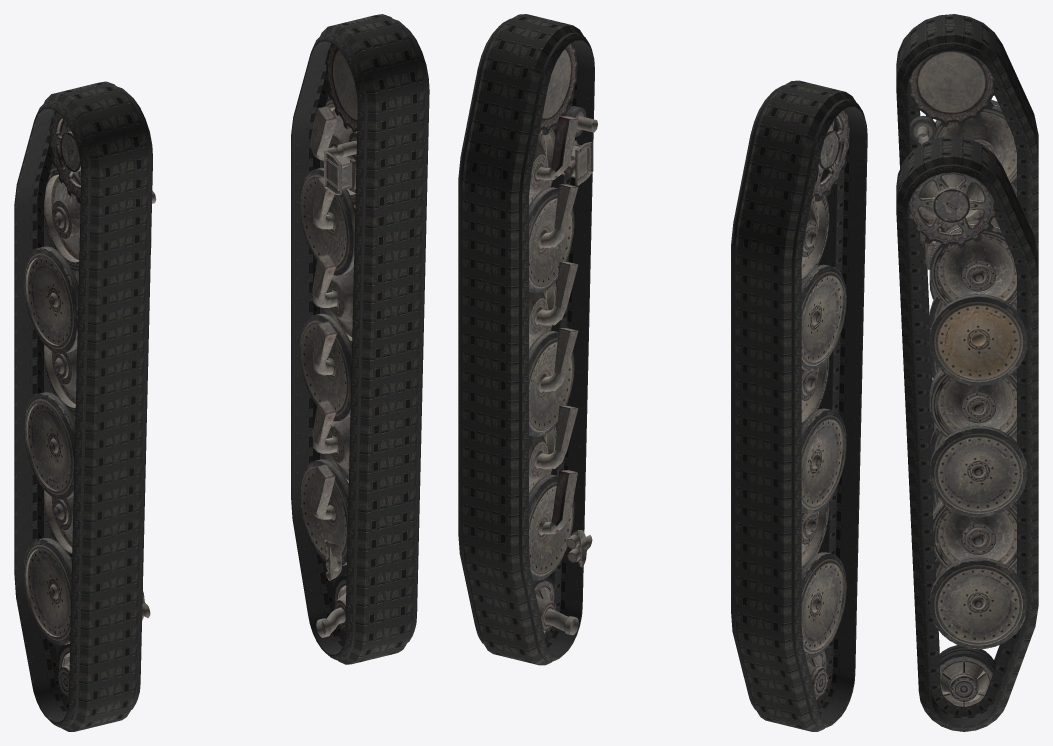
The model's file is Chassis.glb.
3 views of the same model, side by side, from view 1: azimuth 30°, elevation 25°; view 2: azimuth 150°, elevation 25°; view 3: azimuth 270°, elevation 25° (orthographic). The views are drawn at different scales.
Parts seen in each view (by area): view 1: set_0_group_0, set_1_group_0, set_3_group_0, set_2_group_0; view 2: set_0_group_0, set_1_group_0, set_3_group_0, set_2_group_0; view 3: set_3_group_0, set_1_group_0, set_0_group_0, set_2_group_0.
Boxes of the visible parts, x1=… form: set_0_group_0: x1=14, y1=81, x2=152, y2=731; set_1_group_0: x1=291, y1=14, x2=429, y2=664; set_3_group_0: x1=299, y1=43, x2=357, y2=637; set_2_group_0: x1=23, y1=111, x2=156, y2=698; set_0_group_0: x1=731, y1=80, x2=867, y2=731; set_1_group_0: x1=458, y1=14, x2=594, y2=665; set_3_group_0: x1=529, y1=43, x2=597, y2=635; set_2_group_0: x1=801, y1=110, x2=849, y2=700; set_3_group_0: x1=908, y1=172, x2=1027, y2=706; set_1_group_0: x1=896, y1=136, x2=1038, y2=731; set_0_group_0: x1=896, y1=14, x2=1038, y2=559; set_2_group_0: x1=908, y1=50, x2=1026, y2=510.
Size of the model in its own units: 3.24 by 5.68 by 1.28.
Materials: 4 (4 with a texture image).
